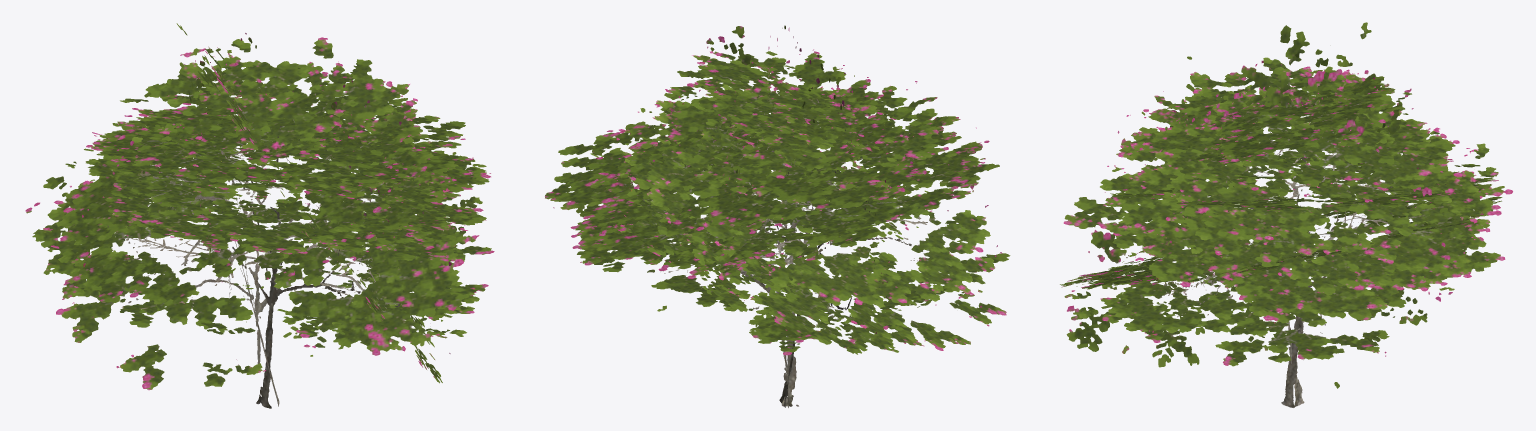
Rendered from tree-2-1.glb.
3 views of the same model, side by side, from view 1: azimuth 30°, elevation 25°; view 2: azimuth 150°, elevation 25°; view 3: azimuth 270°, elevation 25° (orthographic). The views are drawn at different scales.
Visible parts, largest first — view 1: BillboardCloudProxy_0_LOD1; view 2: BillboardCloudProxy_0_LOD1; view 3: BillboardCloudProxy_0_LOD1.
Part boxes in pixels (<box>): BillboardCloudProxy_0_LOD1: <box>25,23,494,408</box>; BillboardCloudProxy_0_LOD1: <box>545,25,1010,407</box>; BillboardCloudProxy_0_LOD1: <box>1060,22,1512,407</box>.
Size of the model in its own units: 8.36 by 7.11 by 8.2.
1 material, 1 textured.
